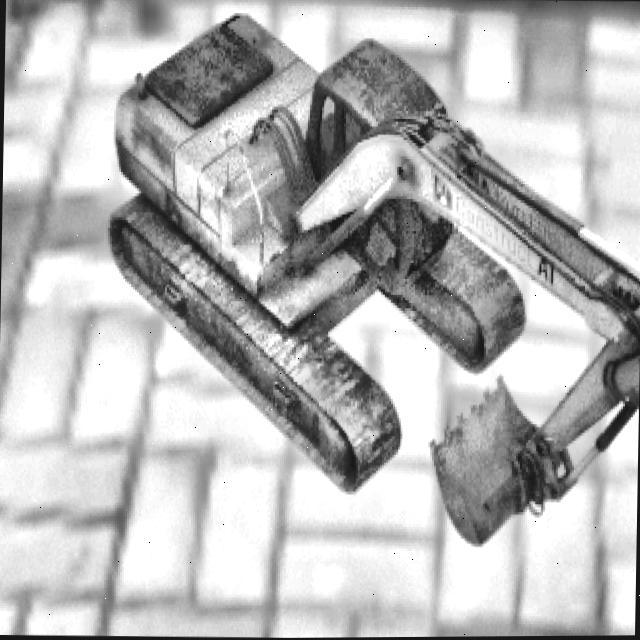excavator: (100, 5, 640, 548)
